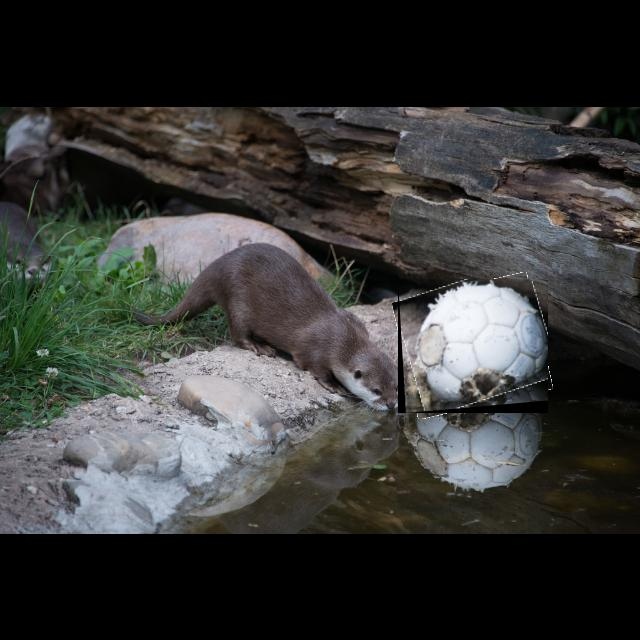Football: (398, 279, 548, 413)
